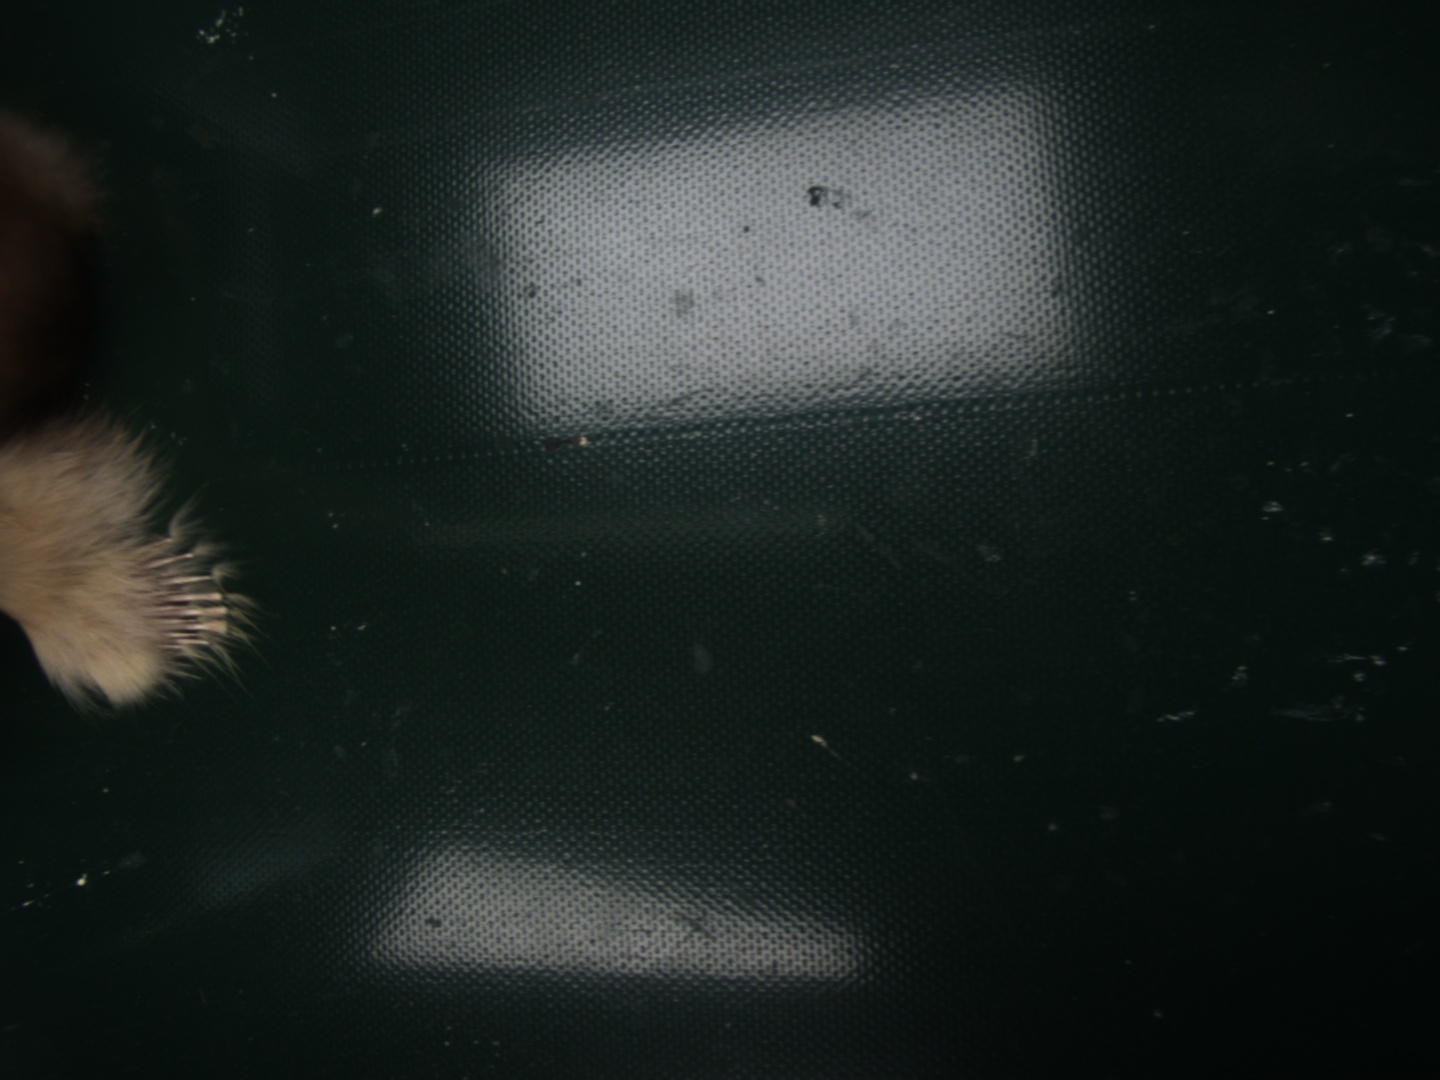female: (118, 533, 228, 653)
